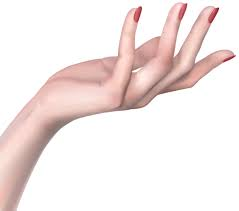hand: (37, 4, 236, 127)
